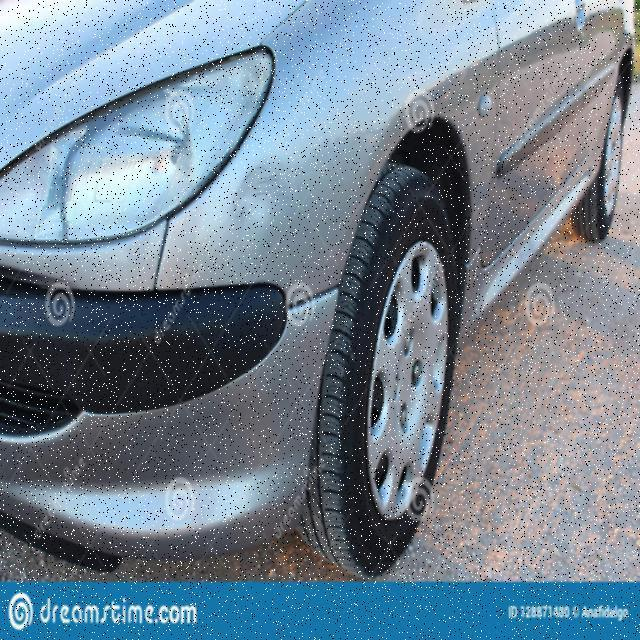fender-dent: (214, 138, 488, 336)
